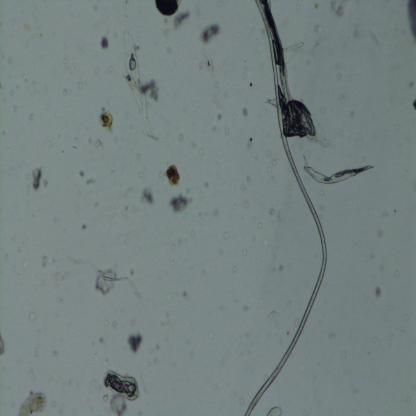Background material: (280, 43, 317, 145), (89, 264, 142, 305), (18, 389, 48, 414), (109, 391, 131, 416), (163, 161, 183, 188), (198, 20, 220, 44), (152, 0, 183, 17), (168, 192, 193, 213), (125, 330, 145, 355), (138, 183, 158, 206), (32, 165, 49, 192), (98, 107, 114, 134), (199, 48, 214, 76), (333, 52, 344, 88), (53, 268, 75, 286), (67, 250, 86, 269), (173, 11, 191, 31), (331, 1, 348, 20), (23, 24, 40, 41), (159, 305, 172, 325), (26, 361, 36, 384), (120, 204, 136, 218), (144, 338, 160, 352), (209, 202, 222, 219), (264, 404, 284, 415), (184, 343, 196, 358), (241, 195, 252, 211), (372, 282, 382, 299), (0, 332, 7, 356), (57, 400, 68, 415), (59, 54, 70, 69), (268, 158, 278, 174), (267, 311, 280, 323), (243, 326, 254, 340), (219, 228, 231, 240), (40, 254, 50, 268), (94, 333, 104, 346), (246, 135, 254, 151), (262, 233, 271, 247), (221, 122, 230, 136), (93, 138, 104, 149), (168, 242, 178, 254), (86, 178, 98, 188), (216, 110, 226, 122), (266, 204, 276, 216), (79, 219, 88, 232), (376, 227, 384, 241), (30, 310, 38, 324), (90, 2, 100, 13), (101, 36, 110, 48), (21, 256, 30, 268), (136, 167, 145, 179), (177, 130, 185, 143), (47, 347, 58, 356), (90, 375, 97, 389), (241, 106, 249, 118), (197, 146, 206, 156), (63, 86, 72, 96), (180, 290, 189, 300), (12, 100, 18, 115), (48, 398, 58, 407), (166, 42, 172, 56), (255, 218, 263, 228), (56, 294, 66, 302), (107, 62, 115, 72), (34, 342, 39, 358), (7, 87, 14, 98), (204, 179, 210, 191), (28, 111, 36, 120), (169, 255, 174, 268), (77, 170, 85, 178), (230, 111, 236, 121), (278, 262, 284, 272), (191, 138, 196, 149), (77, 80, 83, 89), (16, 244, 22, 253), (199, 188, 204, 198), (8, 56, 13, 66), (246, 176, 252, 184), (70, 144, 78, 150), (4, 250, 10, 258), (351, 109, 356, 118), (242, 305, 247, 314), (252, 235, 258, 242), (413, 98, 416, 111), (15, 82, 21, 88), (234, 264, 238, 272), (96, 68, 101, 74), (24, 76, 28, 83), (73, 136, 79, 140), (132, 320, 136, 324), (249, 82, 252, 87)
Cellulose filter fibre: (120, 34, 159, 143), (102, 367, 140, 403)
Cotton: (302, 158, 376, 186)
Microfibre: (242, 0, 331, 416)
Pen: (406, 0, 416, 42)
